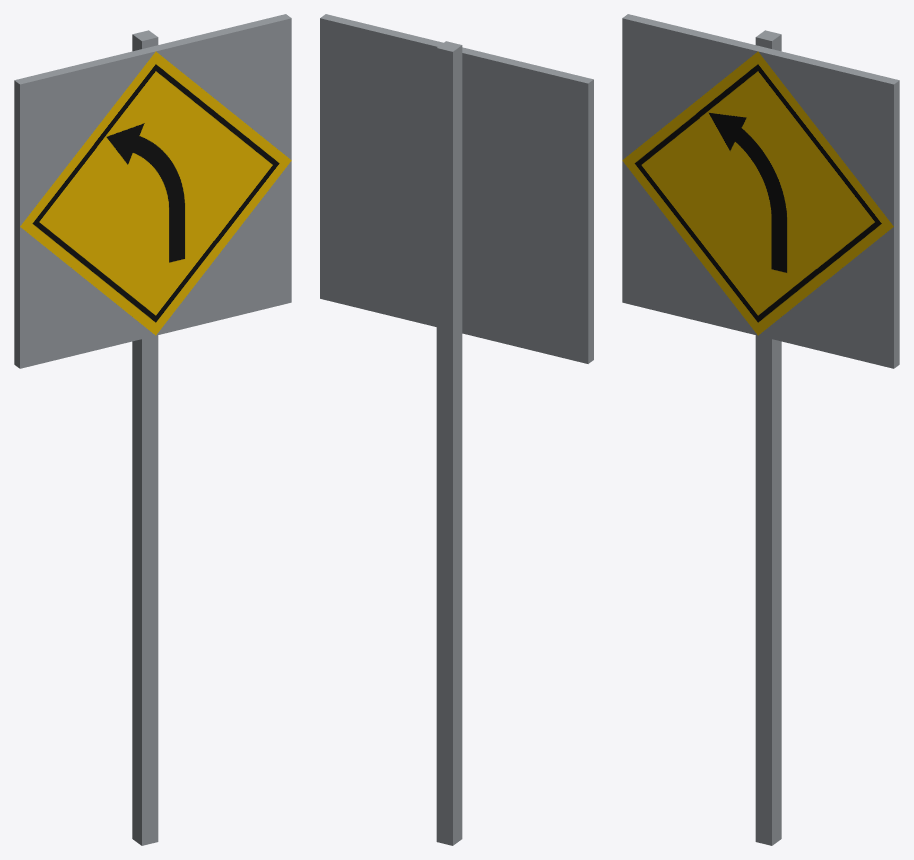
File: us_warn_curve_l.dae
3 views of the same model, side by side, from view 1: azimuth 30°, elevation 25°; view 2: azimuth 150°, elevation 25°; view 3: azimuth 330°, elevation 25° (orthographic).
Visible parts, largest first — view 1: sign4, Colmesh-1; view 2: Colmesh-1, sign4; view 3: sign4, Colmesh-1.
Boxes of the visible parts, left/top/right/bottom form: sign4: left=20, top=30, right=291, bottom=845; Colmesh-1: left=14, top=14, right=291, bottom=368; Colmesh-1: left=320, top=14, right=593, bottom=363; sign4: left=436, top=41, right=462, bottom=845; sign4: left=622, top=30, right=893, bottom=845; Colmesh-1: left=622, top=14, right=899, bottom=368.
Bounding box in the file's own units: 1.08 × 0.105 × 3.05.
2 materials, 1 textured.
